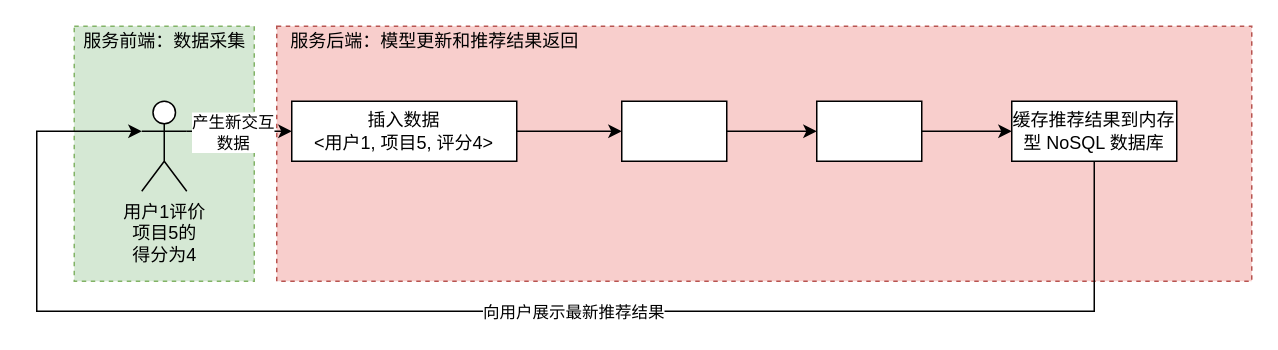
Some shapes in this 1278 by 350 pixel diagram are drawn without their labels. Here are the shapes that lost their labels. From the top down, the centre of each, then its label:
the point at 673,130: 更新模型
the point at 868,130: 更新 推荐结果
